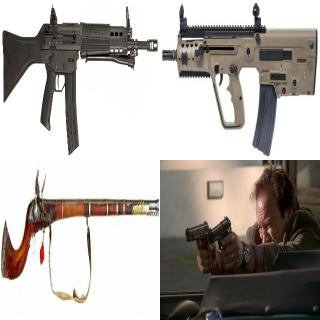gun: (1, 1, 157, 153), (161, 5, 317, 155), (1, 162, 157, 312), (208, 216, 232, 258), (185, 218, 210, 254)
